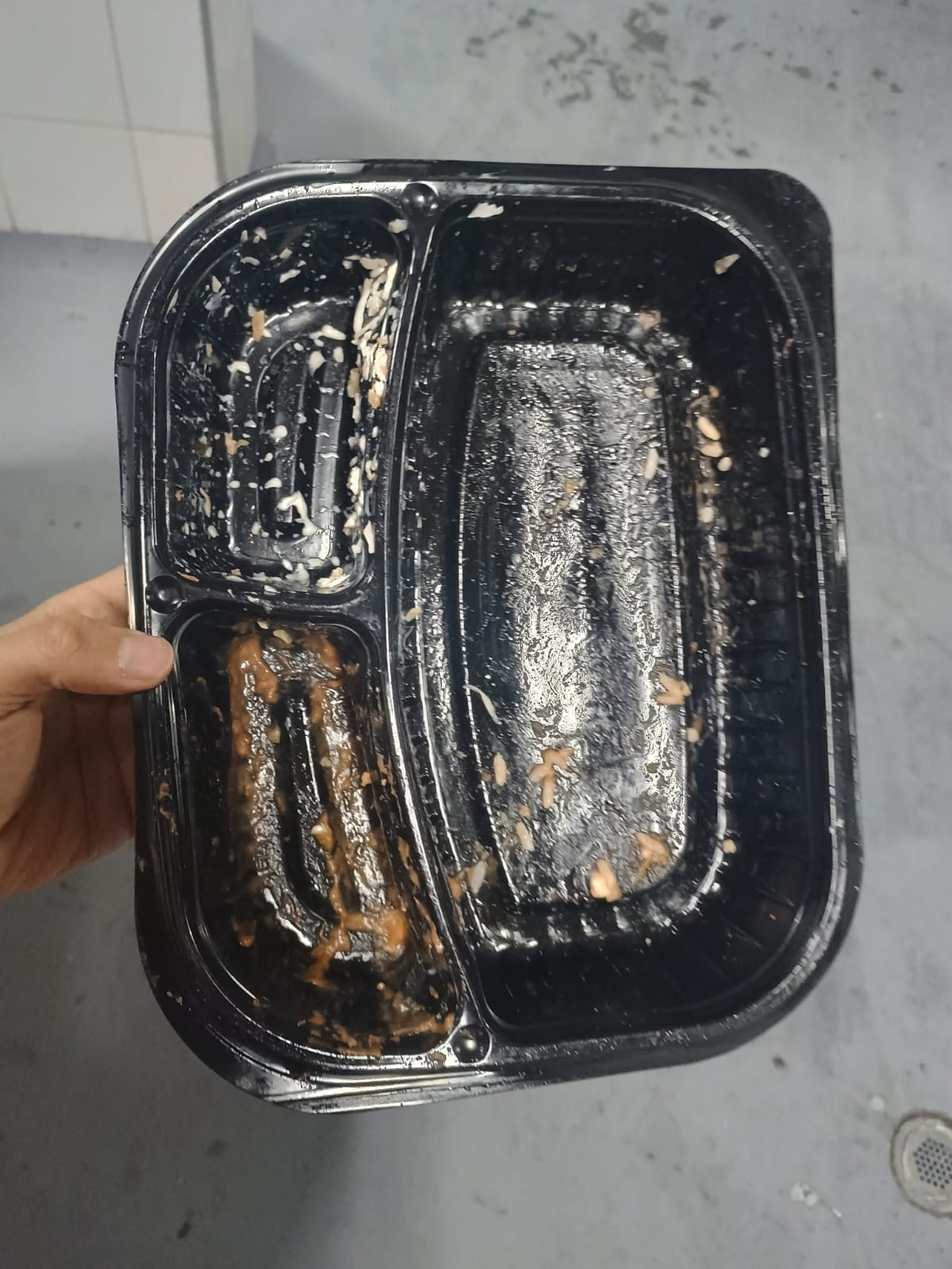Ordinario: (113, 161, 860, 1113)
